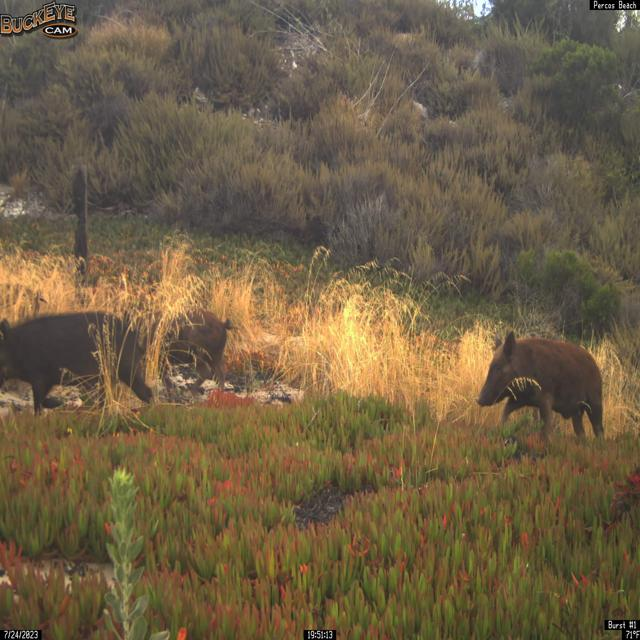pig: (476, 329, 606, 449)
